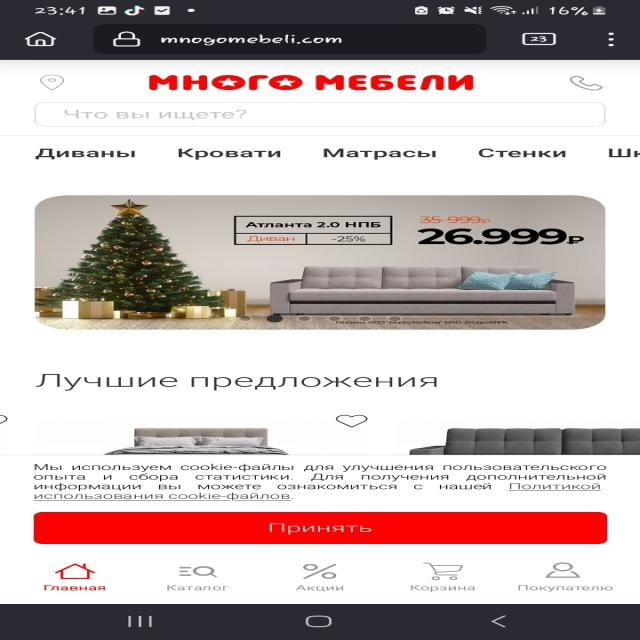button: (35, 510, 609, 546)
site: (0, 456, 640, 557)
